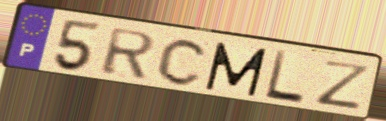5: (51, 16, 102, 73)
C: (154, 36, 211, 87)
L: (262, 48, 307, 106)
M: (203, 40, 270, 98)
R: (98, 26, 159, 81)
Z: (315, 58, 374, 112)
